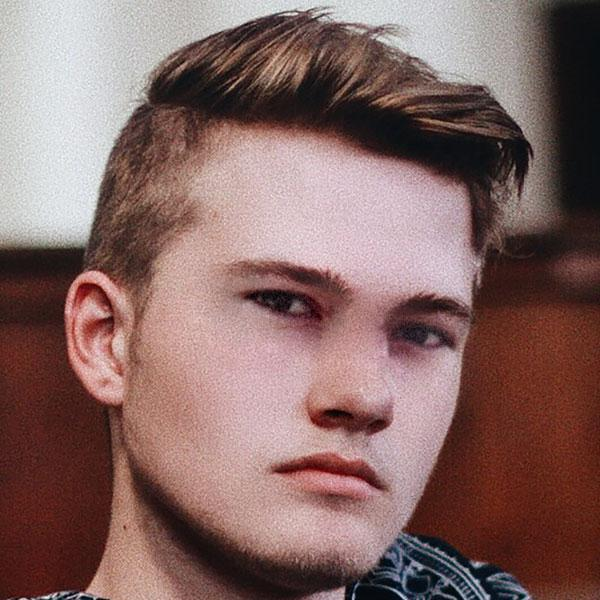Eyes: (235, 275, 331, 332), (388, 314, 459, 357)
